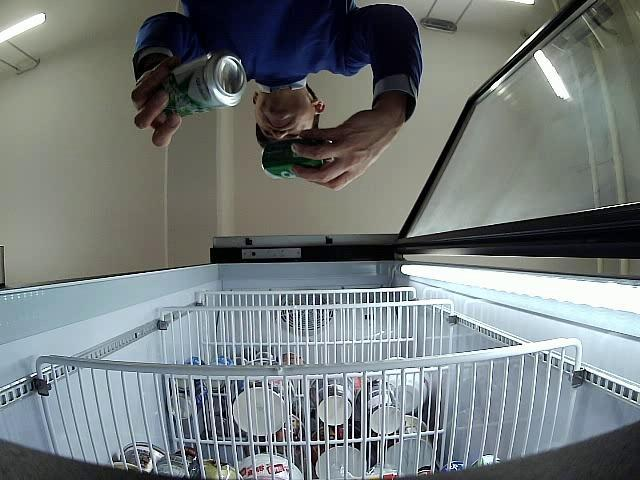12_chilsungCider: (158, 52, 248, 118), (261, 138, 330, 180)
